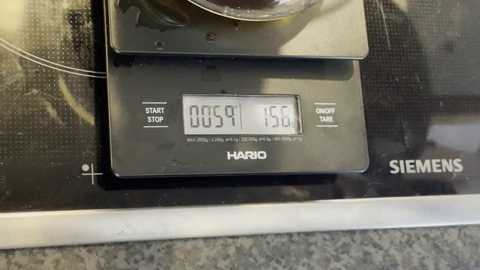display: (183, 95, 300, 133)
